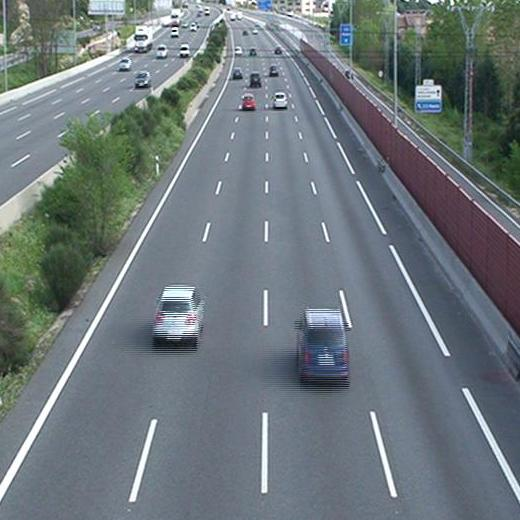car: (292, 309, 350, 385), (152, 285, 205, 346), (272, 92, 289, 111), (239, 93, 256, 110), (248, 72, 261, 87), (268, 62, 280, 77), (231, 66, 242, 80)
